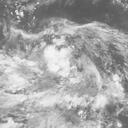cyclone: (44, 42, 87, 85)
